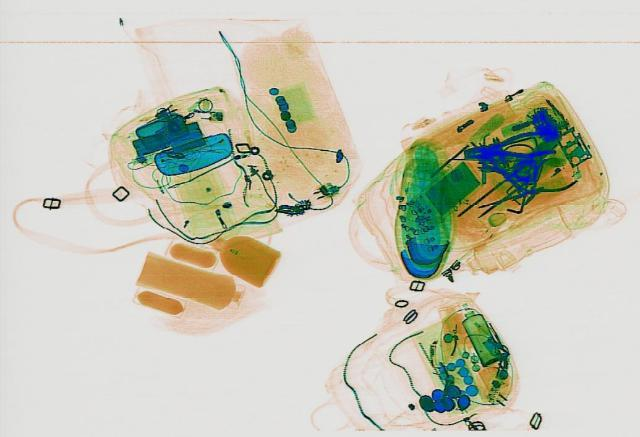Pliers: (494, 154, 584, 213), (456, 126, 556, 167)
